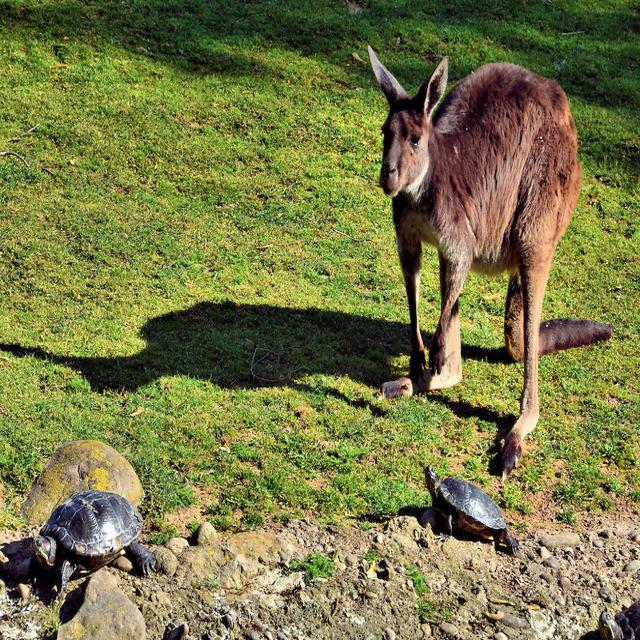kangaroo: (360, 40, 574, 455)
